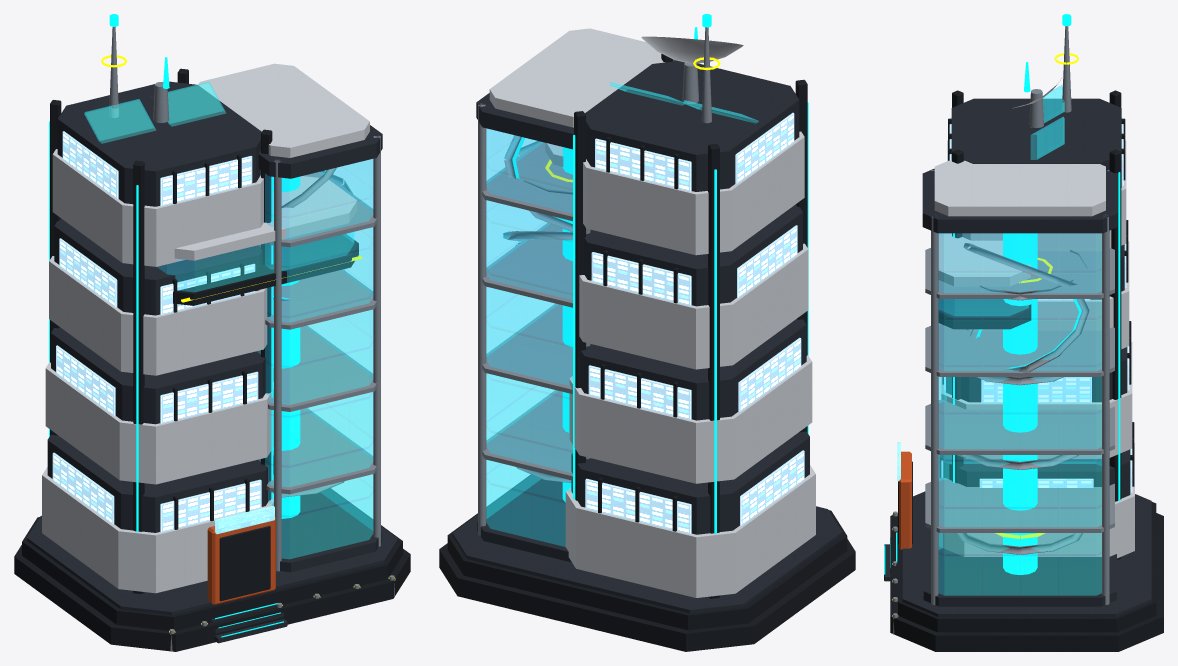
File: bldg_15_r1_05.glb
3 renders of one model, left to right at view 1: azimuth 30°, elevation 25°; view 2: azimuth 150°, elevation 25°; view 3: azimuth 270°, elevation 25°, orthographic. The views are drawn at different scales.
Parts seen in each view (by area): view 1: Bldg15_C05_aero_white, Bldg15_C05_carbon_slate, Bldg15_C05_glass_cyan, Bldg15_C05_gunmetal, Bldg15_C05_steel_machined, Bldg15_C05_window_lit, Bldg15_C05_led_cyan, Bldg15_C05_accent_orange, Bldg15_C05_marquee; view 2: Bldg15_C05_aero_white, Bldg15_C05_carbon_slate, Bldg15_C05_glass_cyan, Bldg15_C05_gunmetal, Bldg15_C05_steel_machined, Bldg15_C05_window_lit, Bldg15_C05_led_cyan; view 3: Bldg15_C05_glass_cyan, Bldg15_C05_steel_machined, Bldg15_C05_carbon_slate, Bldg15_C05_aero_white, Bldg15_C05_gunmetal, Bldg15_C05_led_cyan, Bldg15_C05_window_lit, Bldg15_C05_accent_orange, Bldg15_C05_led_amber.
Part boxes in pixels (x1,y1,x2,y2): Bldg15_C05_aero_white: [42, 63, 369, 593]; Bldg15_C05_carbon_slate: [27, 81, 397, 643]; Bldg15_C05_glass_cyan: [84, 82, 373, 558]; Bldg15_C05_gunmetal: [14, 68, 410, 651]; Bldg15_C05_steel_machined: [109, 26, 394, 651]; Bldg15_C05_window_lit: [52, 131, 261, 532]; Bldg15_C05_led_cyan: [49, 14, 325, 637]; Bldg15_C05_accent_orange: [207, 517, 275, 604]; Bldg15_C05_marquee: [215, 505, 274, 534]; Bldg15_C05_aero_white: [489, 28, 815, 597]; Bldg15_C05_carbon_slate: [452, 60, 842, 613]; Bldg15_C05_glass_cyan: [486, 82, 758, 546]; Bldg15_C05_gunmetal: [439, 54, 855, 651]; Bldg15_C05_steel_machined: [478, 27, 711, 536]; Bldg15_C05_window_lit: [585, 112, 804, 533]; Bldg15_C05_led_cyan: [512, 14, 808, 533]; Bldg15_C05_glass_cyan: [938, 84, 1101, 595]; Bldg15_C05_steel_machined: [892, 26, 1114, 634]; Bldg15_C05_carbon_slate: [884, 98, 1151, 616]; Bldg15_C05_aero_white: [934, 73, 1134, 558]; Bldg15_C05_gunmetal: [890, 90, 1163, 651]; Bldg15_C05_led_cyan: [884, 14, 1120, 574]; Bldg15_C05_window_lit: [941, 117, 1132, 492]; Bldg15_C05_accent_orange: [899, 451, 911, 549]; Bldg15_C05_led_amber: [892, 53, 1078, 618].
Size of the model in its own units: 12 by 21.42 by 10.23.
10 materials, 10 textured.
